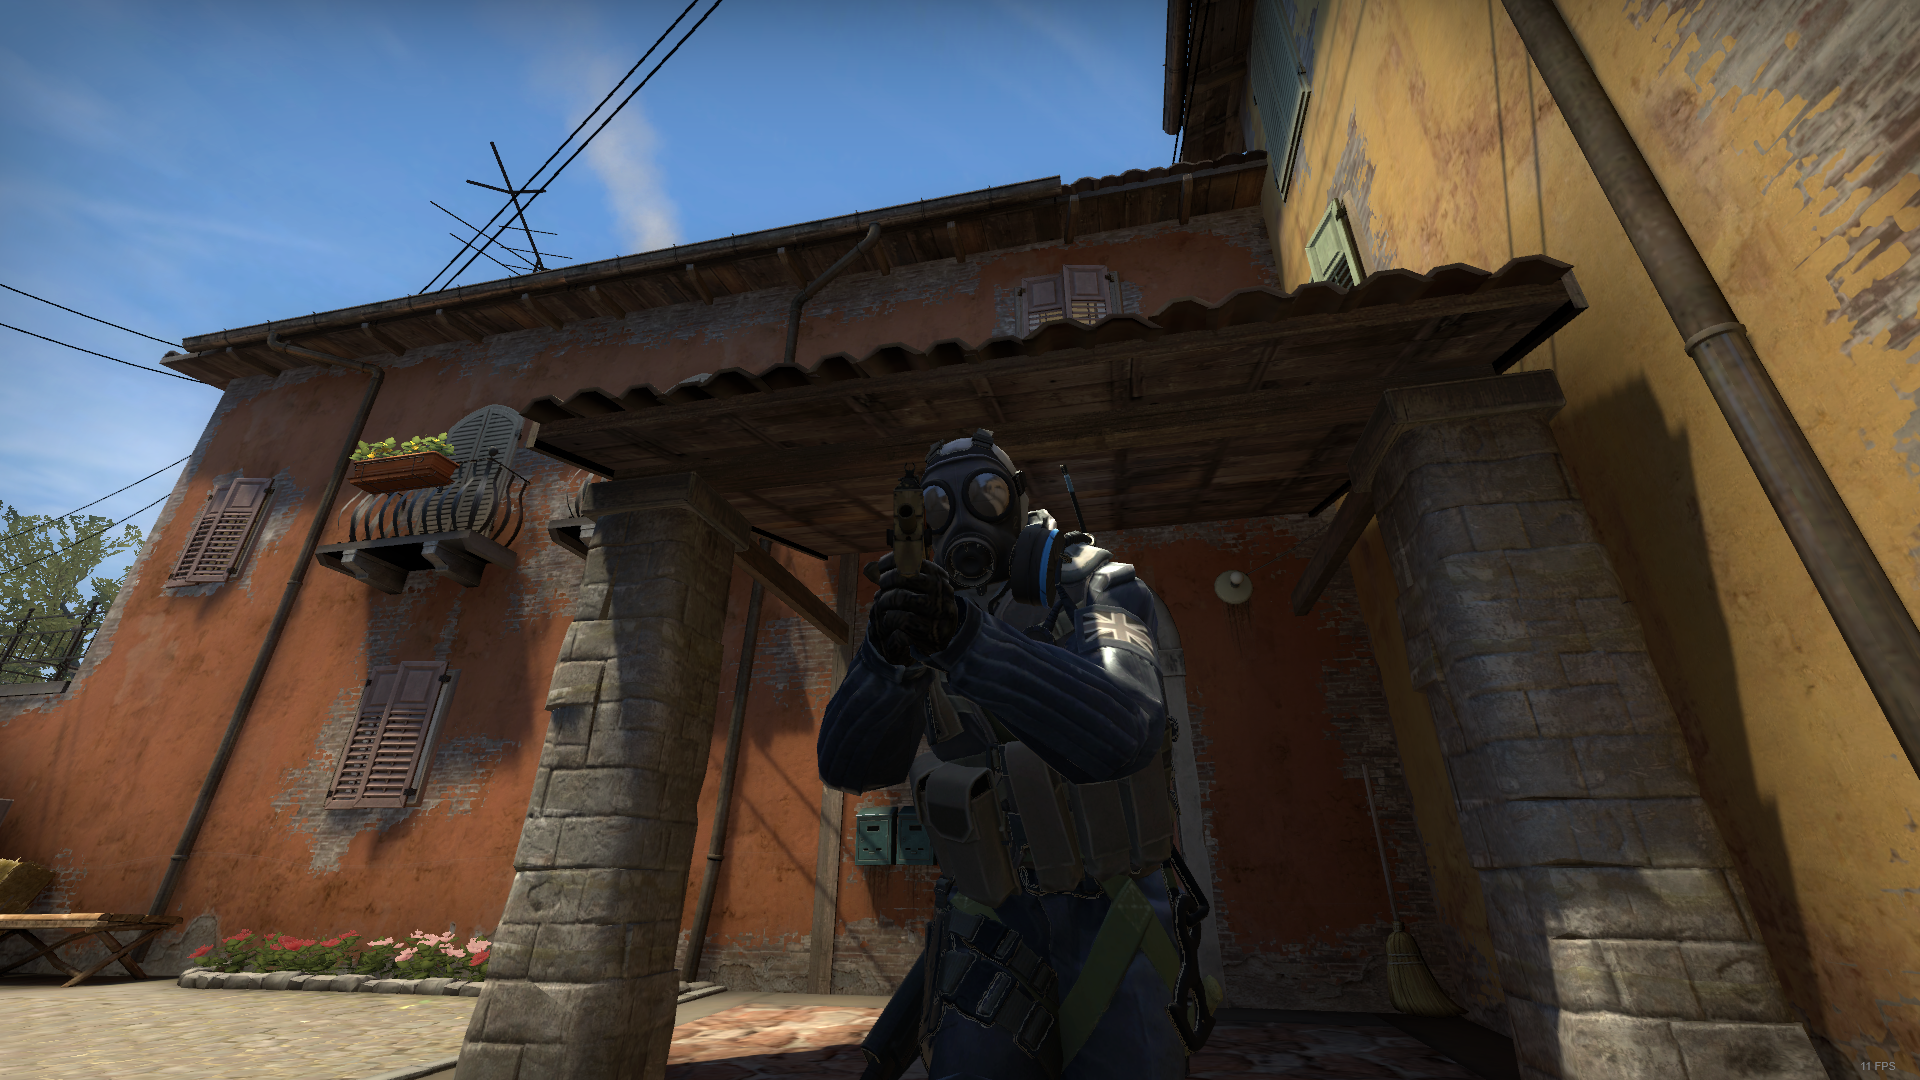ct: (816, 435, 1207, 1080)
